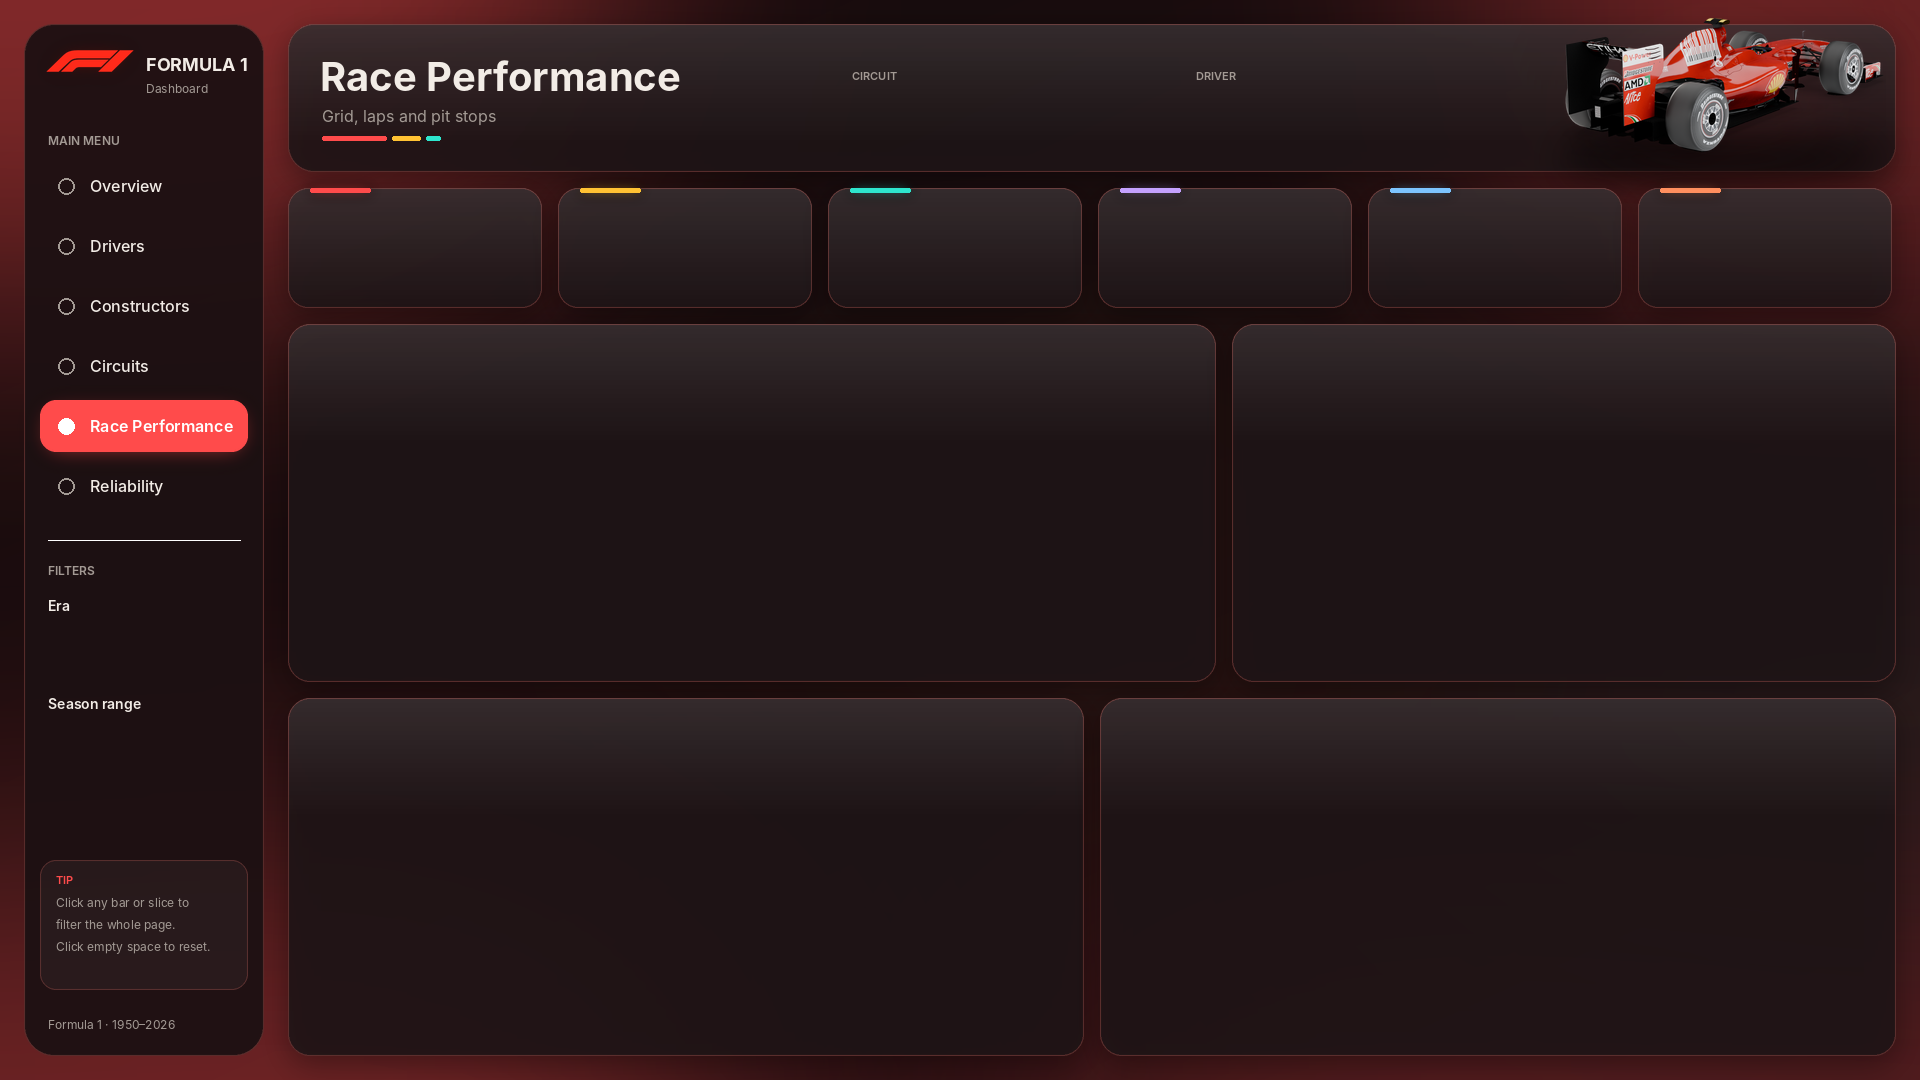

Layout of this report page (visuals, bound fields, positions):
{"tool":"powerbi","page":{"name":"Race Performance","canvas":[1920,1080],"ordinal":4},"visuals":[{"type":"actionButton","box":[40,160,208,52],"z":1000},{"type":"actionButton","box":[40,220,208,52],"z":2000},{"type":"actionButton","box":[40,280,208,52],"z":3000},{"type":"actionButton","box":[40,340,208,52],"z":4000},{"type":"actionButton","box":[40,400,208,52],"z":5000},{"type":"actionButton","box":[40,460,208,52],"z":6000},{"type":"slicer","fields":{"Values":["dim_race.era"]},"box":[40,622,208,44],"z":7000},{"type":"slicer","fields":{"Values":["dim_race.year"]},"box":[40,724,208,96],"z":8000},{"type":"slicer","fields":{"Values":["dim_circuit.circuit_name"]},"box":[848,90,328,40],"z":9000},{"type":"slicer","fields":{"Values":["dim_driver.driver_name"]},"box":[1192,90,328,40],"z":10000},{"type":"card","fields":{"Values":["_Measures.Avg Pit Stop (s)"]},"box":[300,202,230,96],"z":11000},{"type":"card","fields":{"Values":["_Measures.Avg Stops per Driver"]},"box":[570,202,230,96],"z":12000},{"type":"card","fields":{"Values":["_Measures.Best Lap (s)"]},"box":[840,202,230,96],"z":13000},{"type":"card","fields":{"Values":["_Measures.Avg Positions Gained"]},"box":[1110,202,230,96],"z":14000},{"type":"card","fields":{"Values":["_Measures.Avg Grid Position"]},"box":[1380,202,230,96],"z":15000},{"type":"card","fields":{"Values":["_Measures.Avg Finish Position"]},"box":[1650,202,230,96],"z":16000},{"type":"areaChart","title":"Average pit stop time by season (s)","fields":{"Category":["dim_race.year"],"Y":["_Measures.Avg Pit Stop (s)"]},"box":[300,336,904,334],"z":17000},{"type":"clusteredColumnChart","title":"Positions gained by era","fields":{"Category":["dim_race.era"],"Y":["_Measures.Avg Positions Gained"]},"box":[1244,336,640,334],"z":18000},{"type":"lineChart","title":"Average stops per driver by season","fields":{"Category":["dim_race.year"],"Y":["_Measures.Avg Stops per Driver"]},"box":[300,710,772,334],"z":19000},{"type":"clusteredColumnChart","title":"Average finish by starting grid slot","fields":{"Category":["fact_results.grid_position"],"Y":["_Measures.Avg Finish Position"]},"box":[1112,710,772,334],"z":20000}]}

Visuals, with their boxes on the page's 1920x1080 design canvas (x1, y1, x2, y2). These are canvas units, not pixel positions in the 1920x1080 screenshot, which may show the page scaled, cropped or inside an application window:
actionButton: box(40, 160, 248, 212)
actionButton: box(40, 220, 248, 272)
actionButton: box(40, 280, 248, 332)
actionButton: box(40, 340, 248, 392)
actionButton: box(40, 400, 248, 452)
actionButton: box(40, 460, 248, 512)
slicer - dim_race.era: box(40, 622, 248, 666)
slicer - dim_race.year: box(40, 724, 248, 820)
slicer - dim_circuit.circuit_name: box(848, 90, 1176, 130)
slicer - dim_driver.driver_name: box(1192, 90, 1520, 130)
card - _Measures.Avg Pit Stop (s): box(300, 202, 530, 298)
card - _Measures.Avg Stops per Driver: box(570, 202, 800, 298)
card - _Measures.Best Lap (s): box(840, 202, 1070, 298)
card - _Measures.Avg Positions Gained: box(1110, 202, 1340, 298)
card - _Measures.Avg Grid Position: box(1380, 202, 1610, 298)
card - _Measures.Avg Finish Position: box(1650, 202, 1880, 298)
"Average pit stop time by season (s)" areaChart: box(300, 336, 1204, 670)
"Positions gained by era" clusteredColumnChart: box(1244, 336, 1884, 670)
"Average stops per driver by season" lineChart: box(300, 710, 1072, 1044)
"Average finish by starting grid slot" clusteredColumnChart: box(1112, 710, 1884, 1044)
